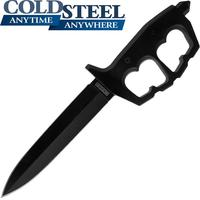knife: (1, 9, 186, 197)
